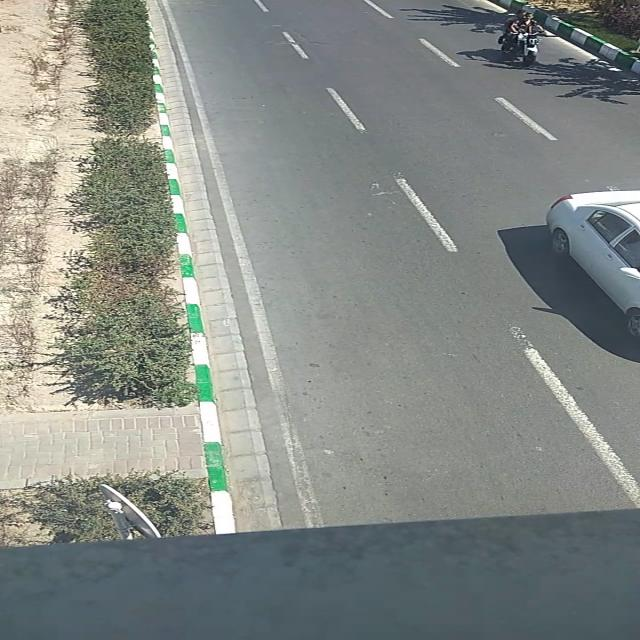car: (547, 189, 640, 341)
motor: (506, 9, 546, 64)
